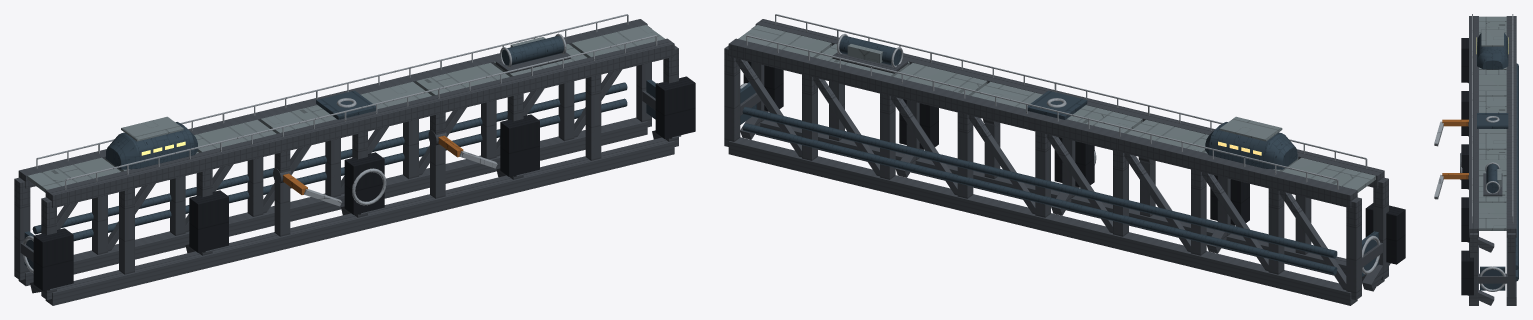
Rendered from large_drydock_side_wall_lod1.glb.
3 renders of one model, left to right at view 1: azimuth 30°, elevation 25°; view 2: azimuth 150°, elevation 25°; view 3: azimuth 270°, elevation 25°, orthographic. The views are drawn at different scales.
Visible parts, largest first — view 1: LOD1_Mechanical, LOD1_MechanicalDark, LOD1_Armor, LOD1_Hull, LOD1_BrushedMetal, LOD1_Livery; view 2: LOD1_Mechanical, LOD1_Armor, LOD1_Hull, LOD1_MechanicalDark, LOD1_BrushedMetal; view 3: LOD1_Mechanical, LOD1_Hull, LOD1_Armor, LOD1_MechanicalDark, LOD1_BrushedMetal, LOD1_Livery.
Part boxes in pixels (left/top/right/bottom): LOD1_Mechanical: left=14, top=19, right=681, bottom=305; LOD1_MechanicalDark: left=33, top=76, right=695, bottom=290; LOD1_Armor: left=24, top=36, right=655, bottom=269; LOD1_Hull: left=27, top=25, right=664, bottom=192; LOD1_BrushedMetal: left=23, top=14, right=657, bottom=273; LOD1_Livery: left=283, top=135, right=463, bottom=194; LOD1_Mechanical: left=724, top=19, right=1390, bottom=305; LOD1_Armor: left=740, top=36, right=1378, bottom=276; LOD1_Hull: left=738, top=25, right=1375, bottom=192; LOD1_MechanicalDark: left=743, top=61, right=1405, bottom=264; LOD1_BrushedMetal: left=740, top=14, right=1380, bottom=274; LOD1_Mechanical: left=1467, top=16, right=1516, bottom=305; LOD1_Hull: left=1479, top=16, right=1506, bottom=230; LOD1_Armor: left=1477, top=33, right=1518, bottom=290; LOD1_MechanicalDark: left=1461, top=38, right=1473, bottom=295; LOD1_BrushedMetal: left=1434, top=14, right=1513, bottom=291; LOD1_Livery: left=1442, top=119, right=1468, bottom=179.
Size of the model in its own units: 84 by 16.84 by 13.46.
7 materials, 6 textured.
